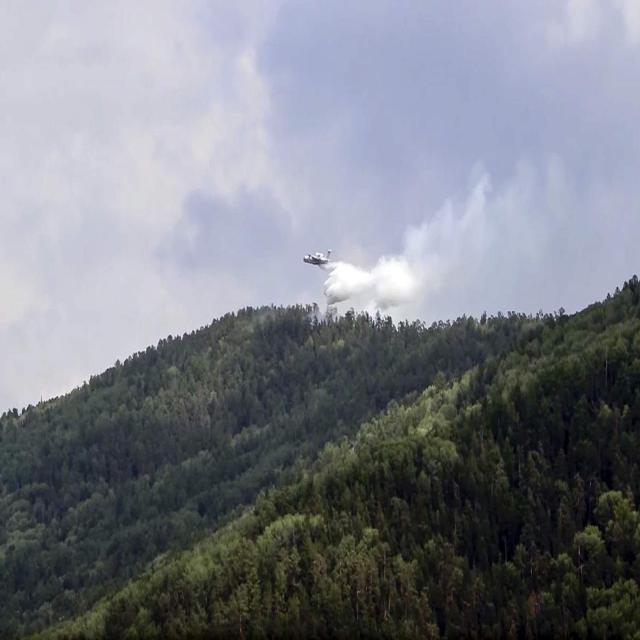MIL_Plane: (316, 250, 323, 264)
